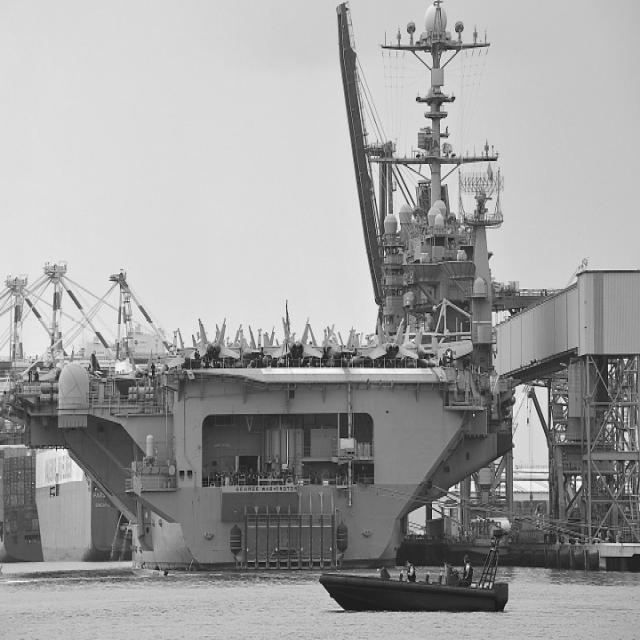Portanaves: (1, 1, 527, 583)
